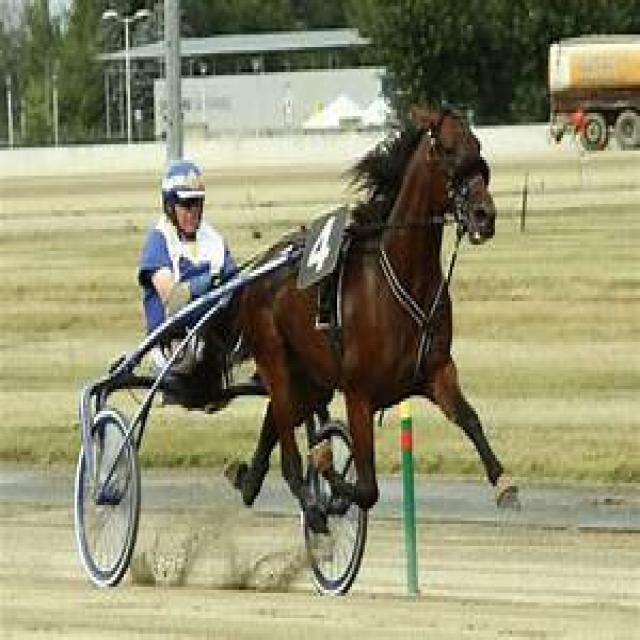animal: (227, 91, 570, 534)
